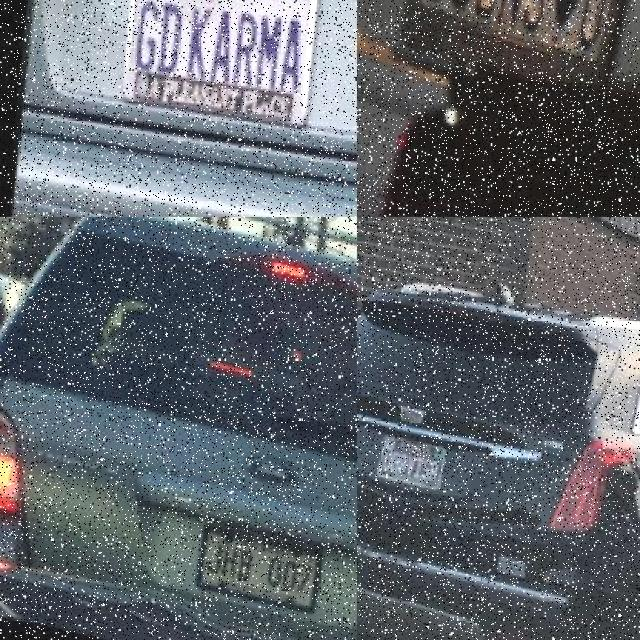licenseplate: (98, 0, 326, 135), (389, 0, 617, 124), (185, 521, 316, 613), (370, 432, 442, 490)
